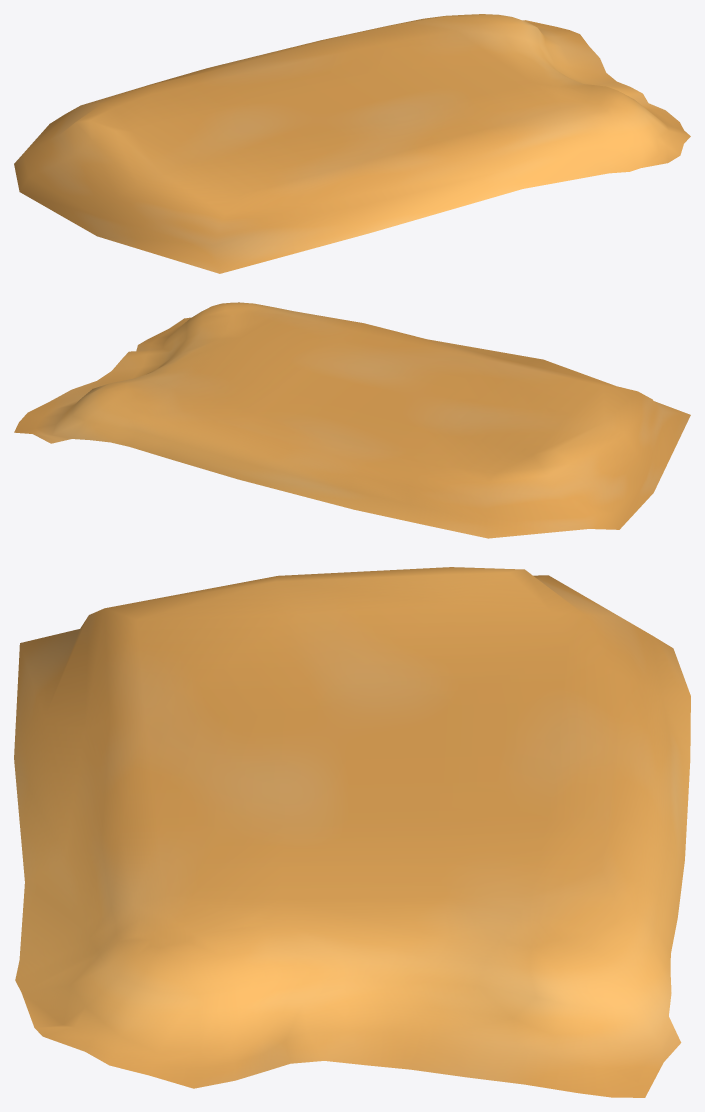
File: Map Beach.fbx
3 views of the same model, one above another, from view 1: azimuth 30°, elevation 25°; view 2: azimuth 150°, elevation 25°; view 3: azimuth 270°, elevation 25° (orthographic). The views are drawn at different scales.
Parts seen in each view (by area): view 1: Cube; view 2: Cube; view 3: Cube.
Boxes of the visible parts, x1,y1,x2,y2 form: Cube: [14, 14, 690, 273]; Cube: [14, 302, 690, 538]; Cube: [14, 567, 690, 1097].
Bounding box in the file's own units: 11695 × 1149 × 6797.
Materials: 1 (1 with a texture image).
